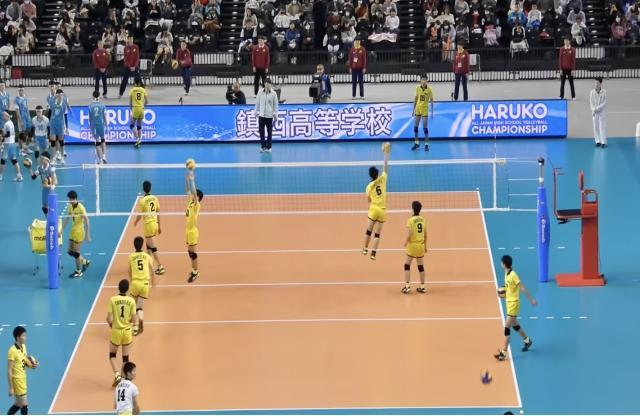spike: (362, 142, 392, 266)
